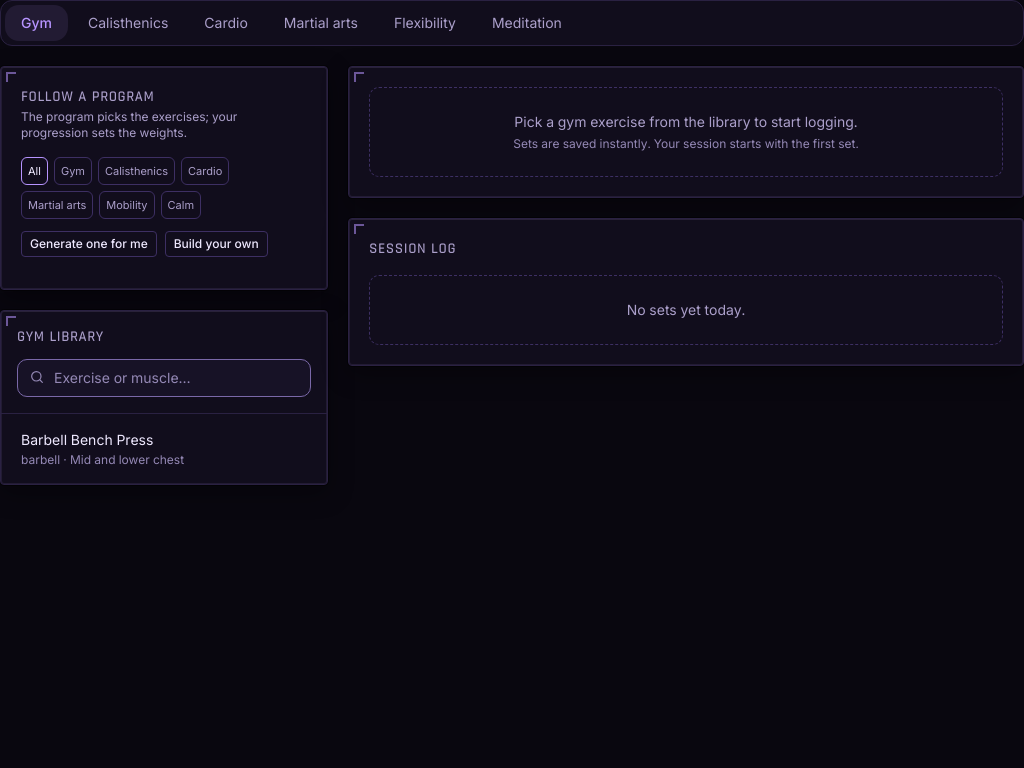
it: Training page › skips the +XP float with Reduce motion on (the toast still confirms)
What coordinates should you click on to do the following:
click the text "Barbell Bench Press"
I would click on:
 (87, 440)
Its box is [21, 431, 153, 448].
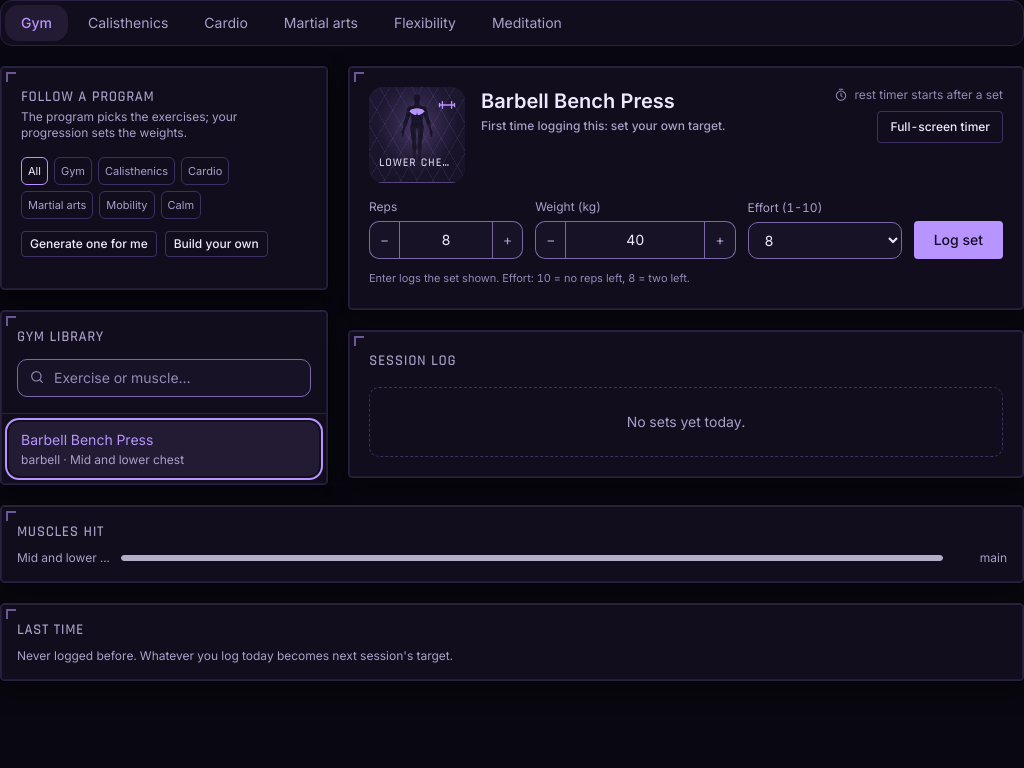
What coordinates should you click on to do the following:
click the button "Log set"
I would click on:
 (958, 240)
Its box is [914, 221, 1003, 259].
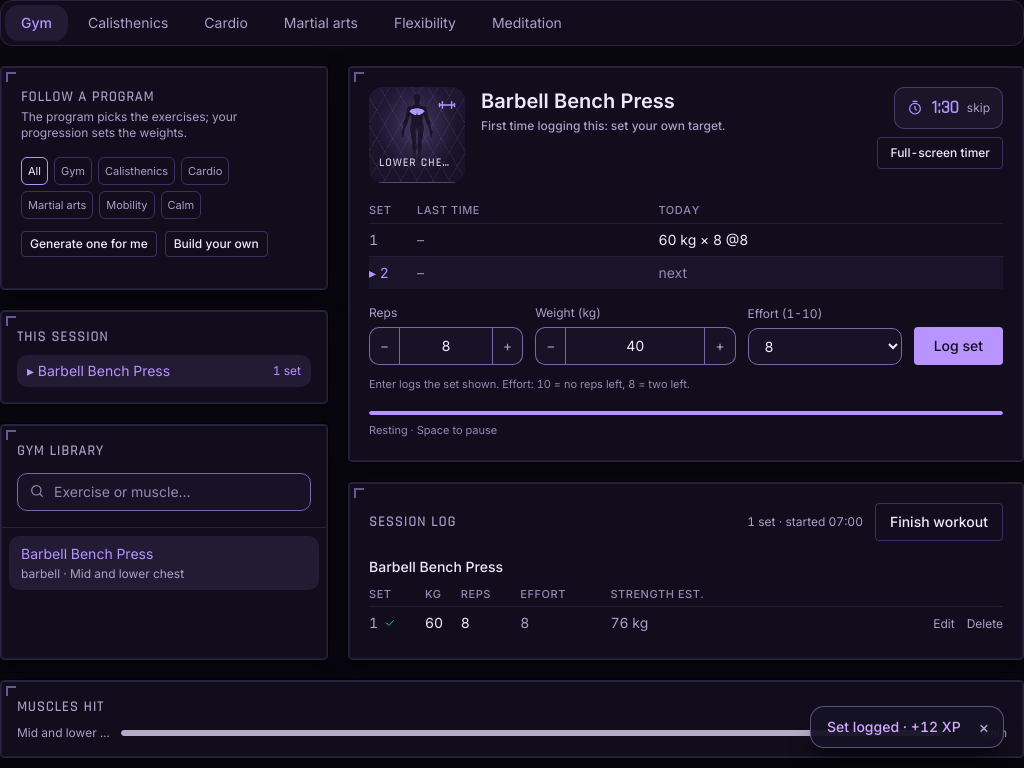
Result: the text "Set logged · +12 XP" is shown at [827, 717, 961, 737]
